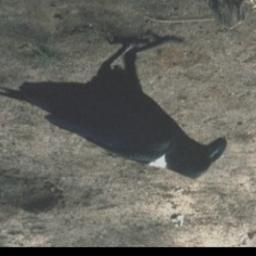Crow: (0, 32, 228, 182)
